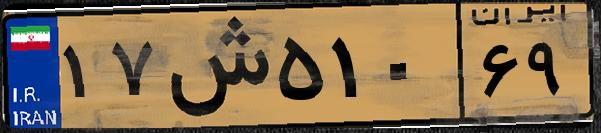0: (385, 28, 445, 110)
1: (330, 28, 385, 110), (57, 26, 110, 100)
5: (270, 28, 330, 110)
6: (475, 38, 525, 113)
7: (110, 28, 158, 98)
9: (525, 38, 570, 115)
ش: (158, 12, 270, 120)
